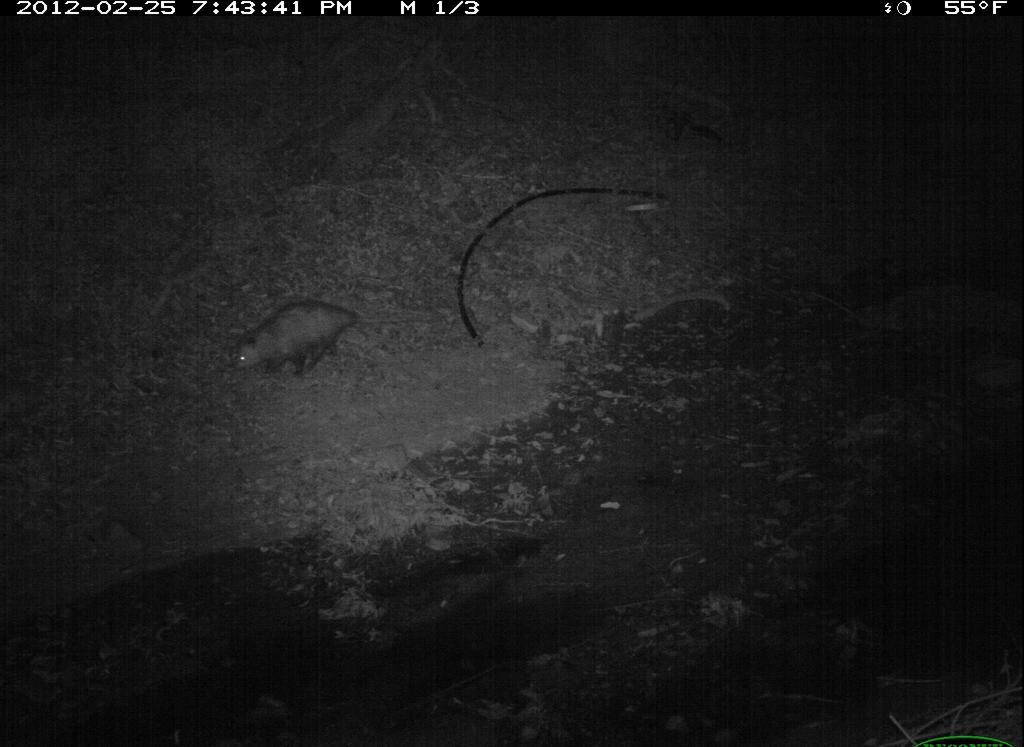opossum: (217, 292, 372, 381)
